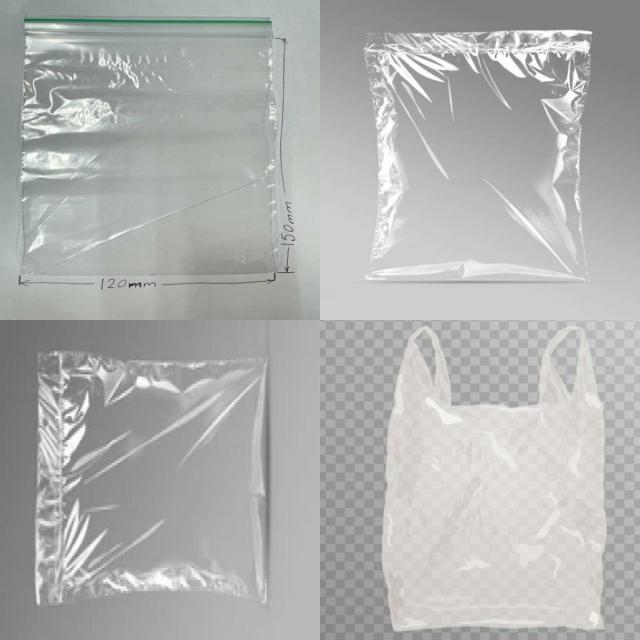Single-layer Plastic: (382, 328, 606, 631), (20, 19, 278, 279), (35, 350, 266, 604), (365, 30, 591, 282)
